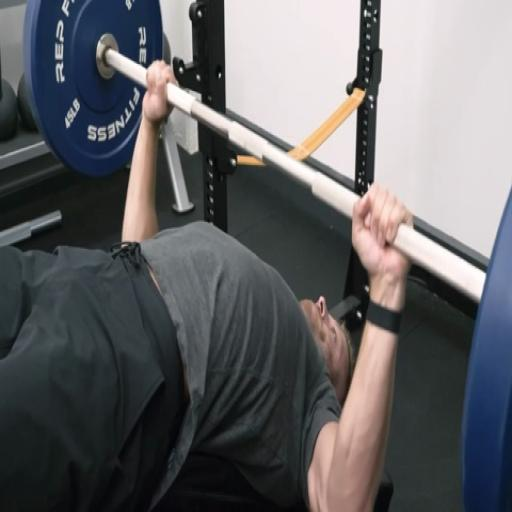exercise: (0, 57, 416, 510)
